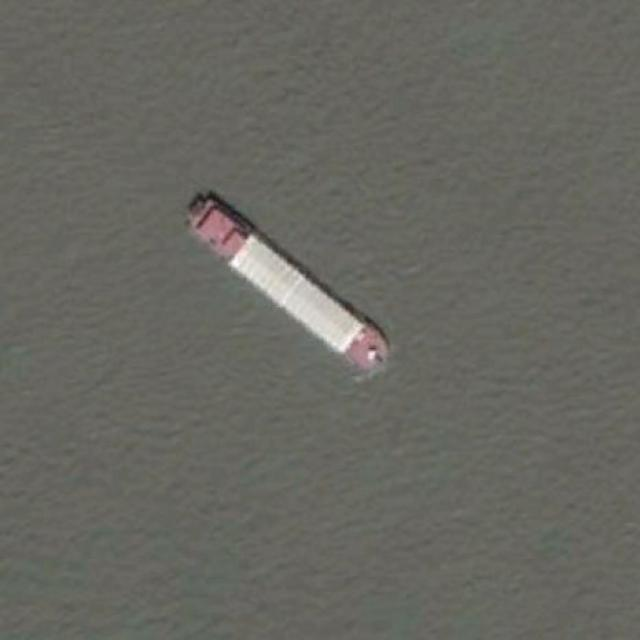ship: (181, 187, 390, 379)
